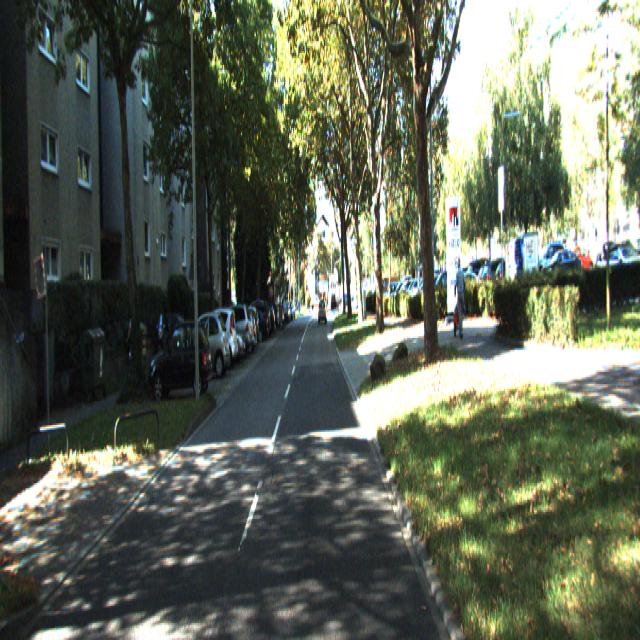Car: (148, 318, 214, 401), (180, 312, 232, 383), (192, 310, 240, 374), (208, 300, 254, 360)
